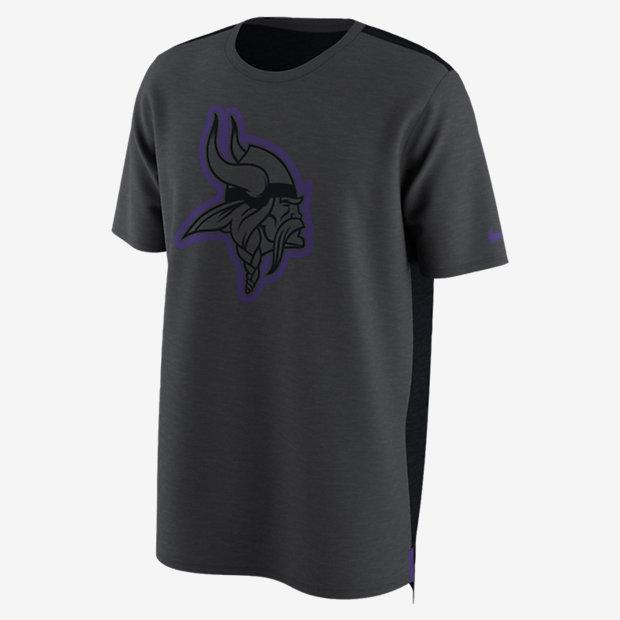teeshirt: (79, 2, 532, 620)
